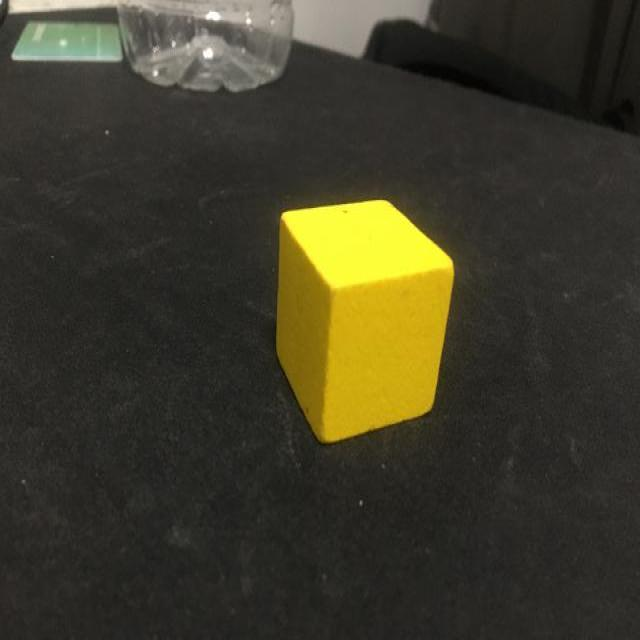yellow: (276, 200, 455, 444)
